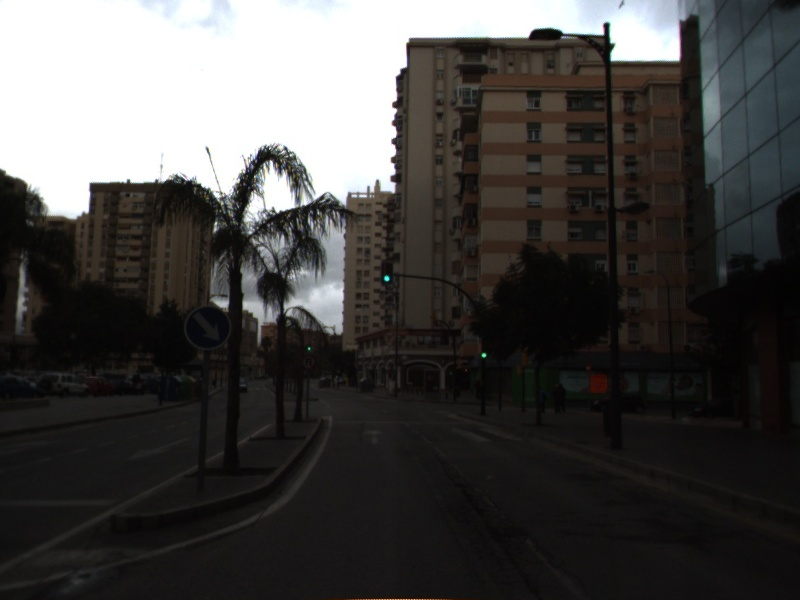STRAIGHT: (360, 426, 388, 448)
